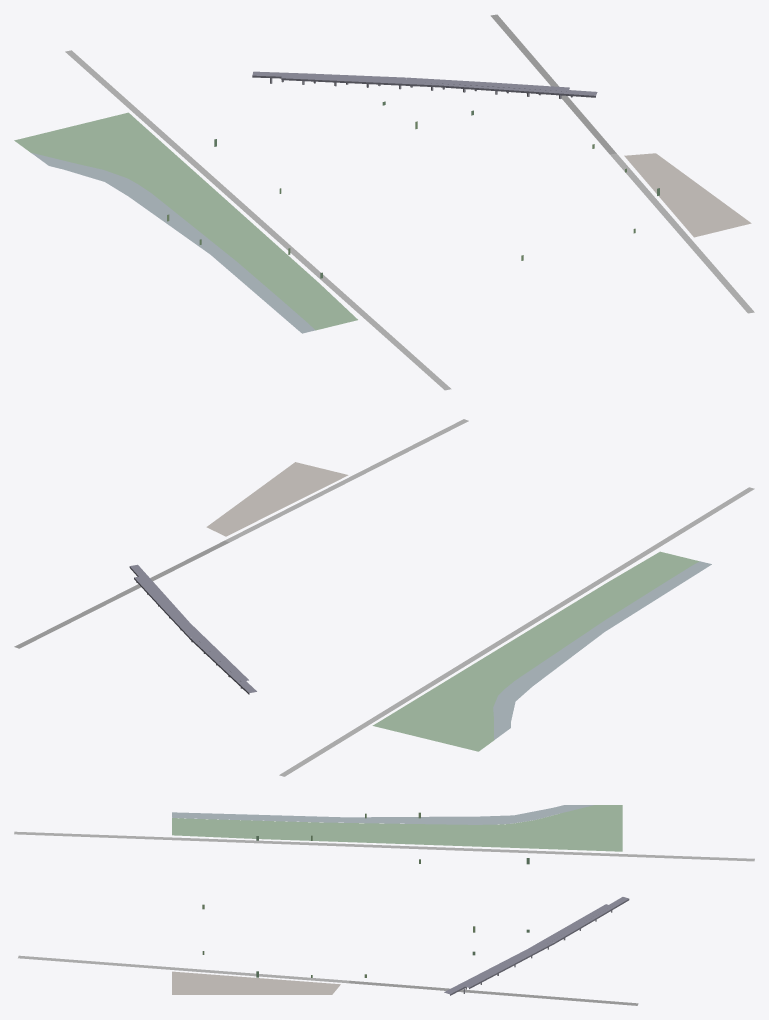
3 views of the same model, one above another, from view 1: azimuth 30°, elevation 25°; view 2: azimuth 150°, elevation 25°; view 3: azimuth 270°, elevation 25° (orthographic). The views are drawn at different scales.
Size of the model in its own units: 526 by 9.49 by 822.
